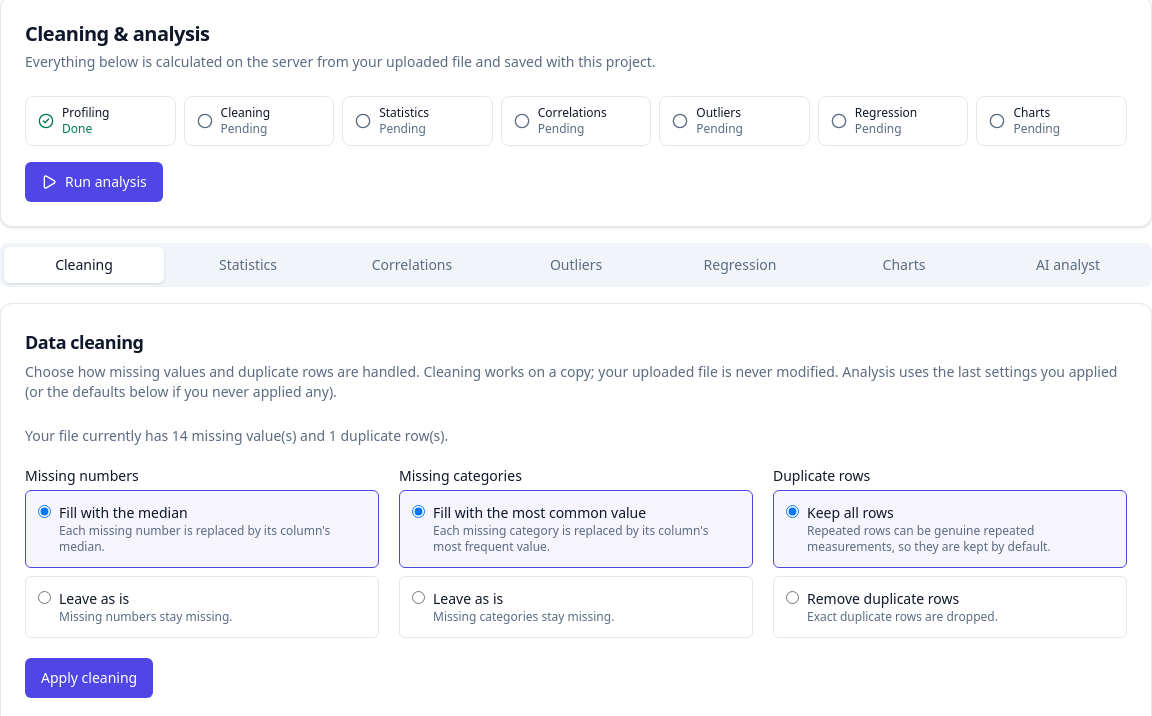
Scenario: AnalysisWorkspace — cleaning › sends exactly the chosen options and shows the returned report
This screenshot has width=1152, height=716.
Click the radio button labelled "Remove duplicate rows Exact duplicate rows are dropped." at (792, 598), box [786,591,799,604]
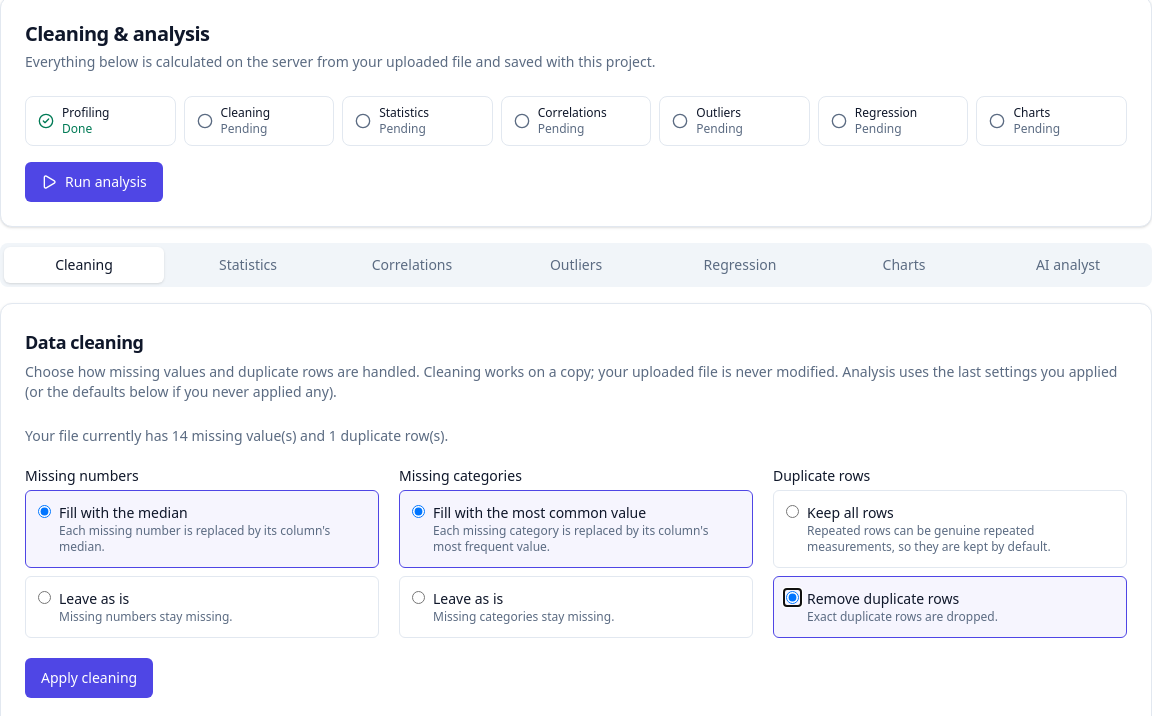
Click the radio button labelled "Leave as is Missing numbers stay missing." at (44, 598), box [38,591,51,604]
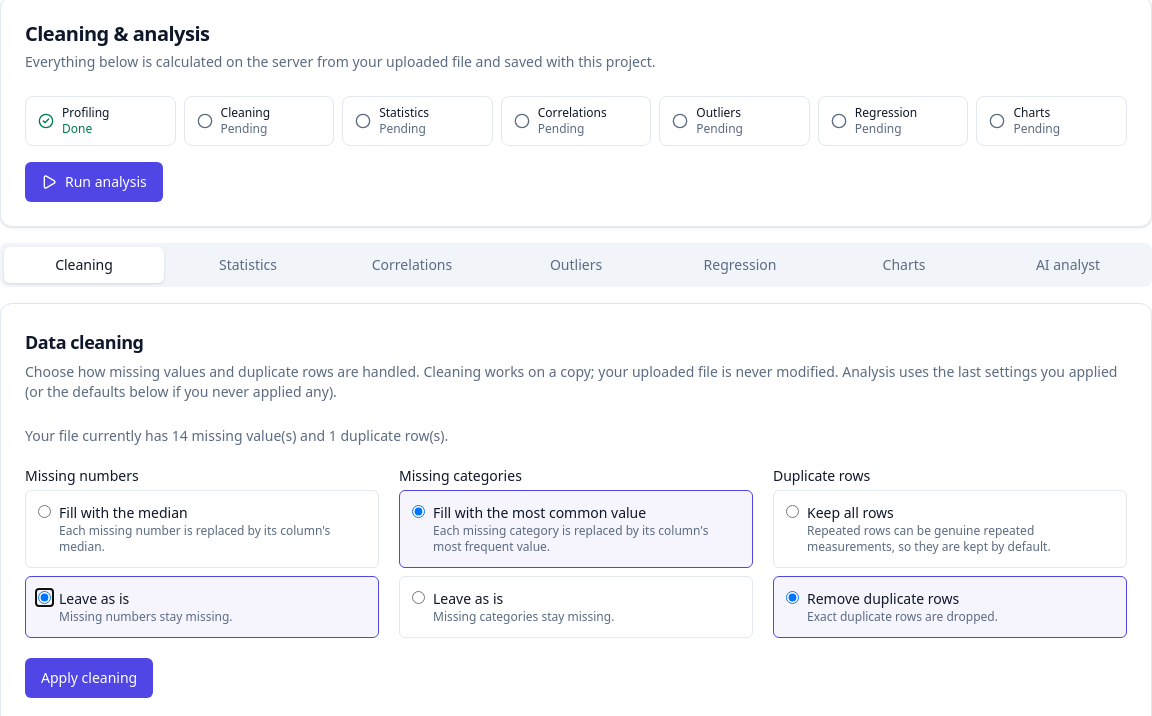
Click the button "Apply cleaning" at (89, 678), box [25,658,153,698]
(page scrolled)
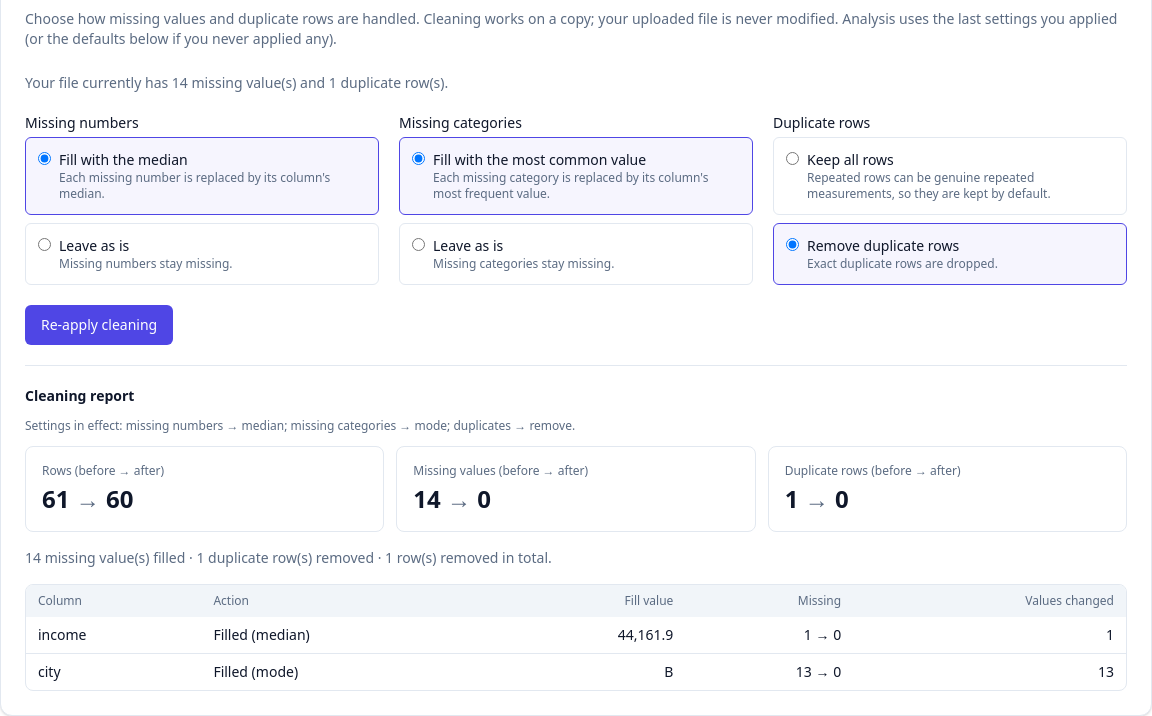
expect the heading "Cleaning report" is shown: met, box [25,386,134,405]
expect the table named "Per-column cleaning actions" is shown: met, box [26,585,1126,690]
expect the column heading "city" is shown: met, box [26,654,201,690]
